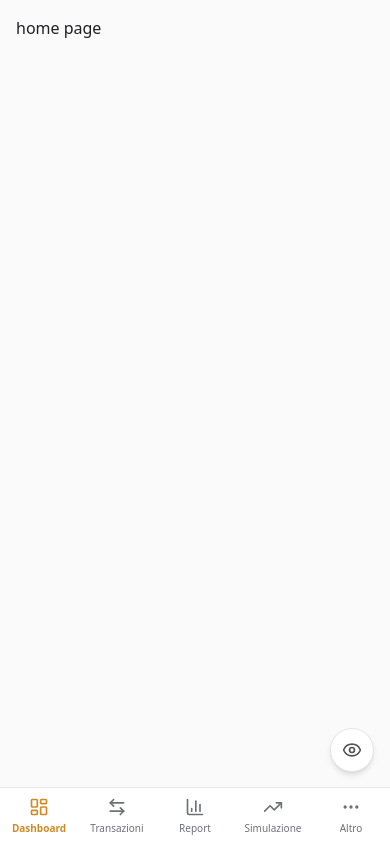
Scenario: Layout mobile bottom bar › closes the sheet after navigating to a destination
Click the button "Altro". click: point(351, 816)
box: [312, 788, 389, 843]
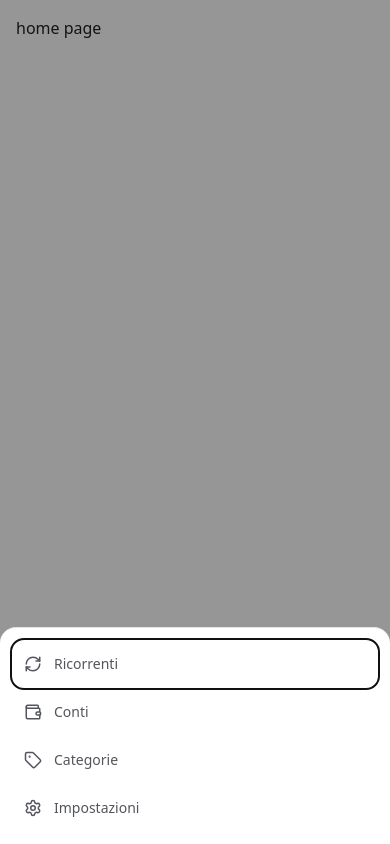
Click the link "Impostazioni". click: point(82, 808)
box: [24, 798, 140, 817]
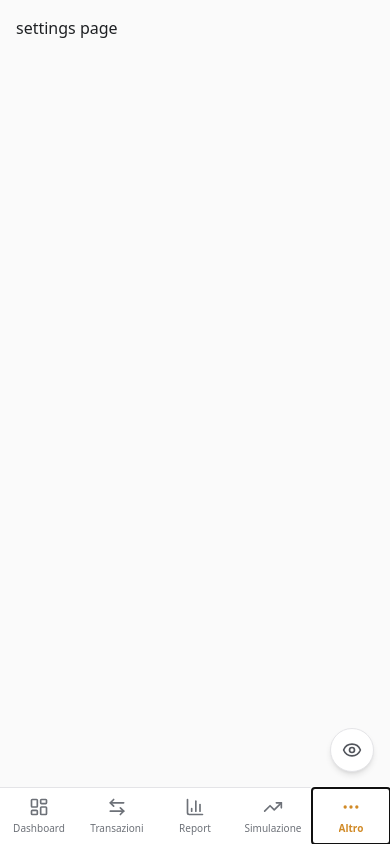
expect the dialog is gone: met
expect the text "settings page" is shown: met, box [16, 17, 118, 39]
